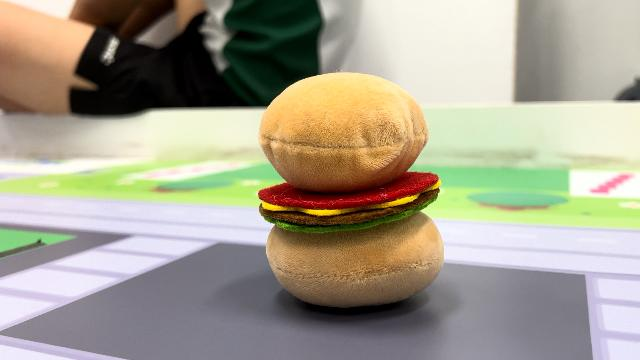burger: (250, 67, 452, 311)
